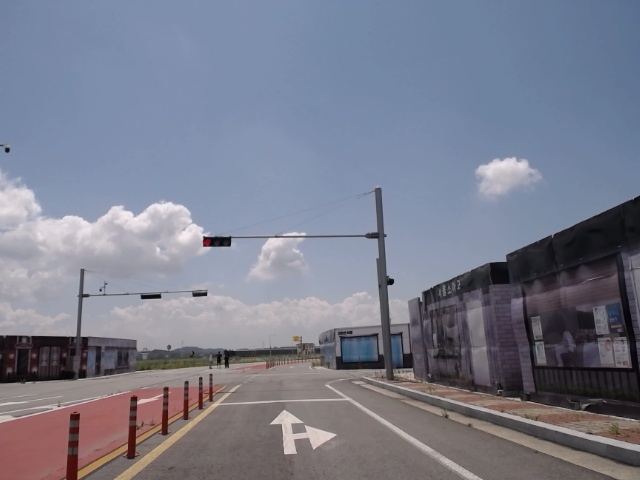red_3: (202, 237, 232, 248)
